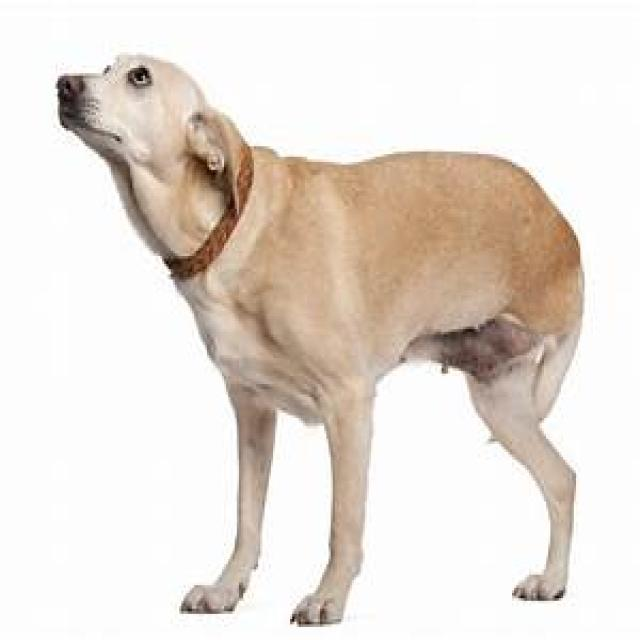dog: (60, 54, 580, 624)
